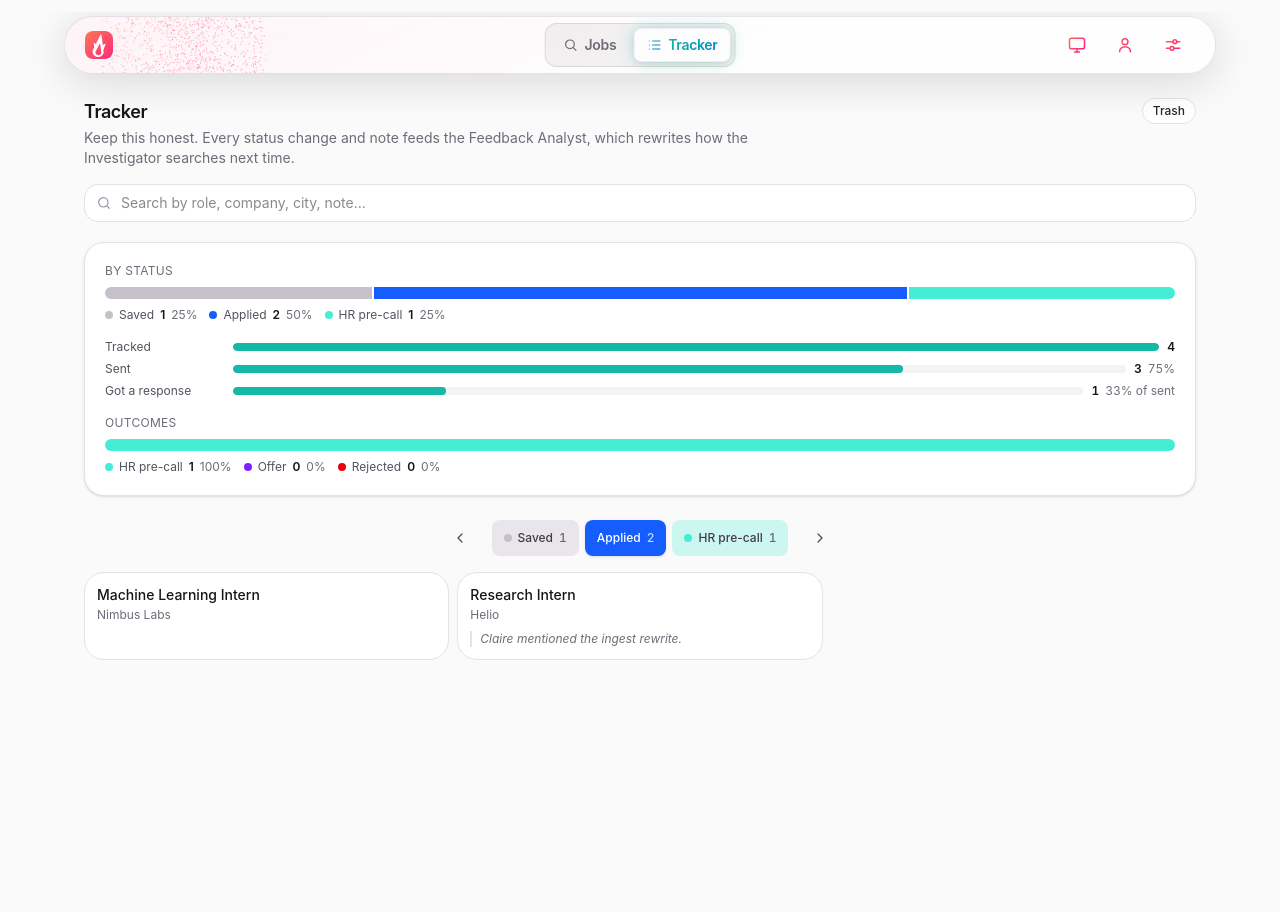
Scenario: the Tracker's search field › matches the city and the note, not only the title and the company
Expected: the text "Nimbus Labs" is shown, [97,607,171,622]
In the search field named "Search applications": (640, 203) [84,184,1196,222], type "paris"
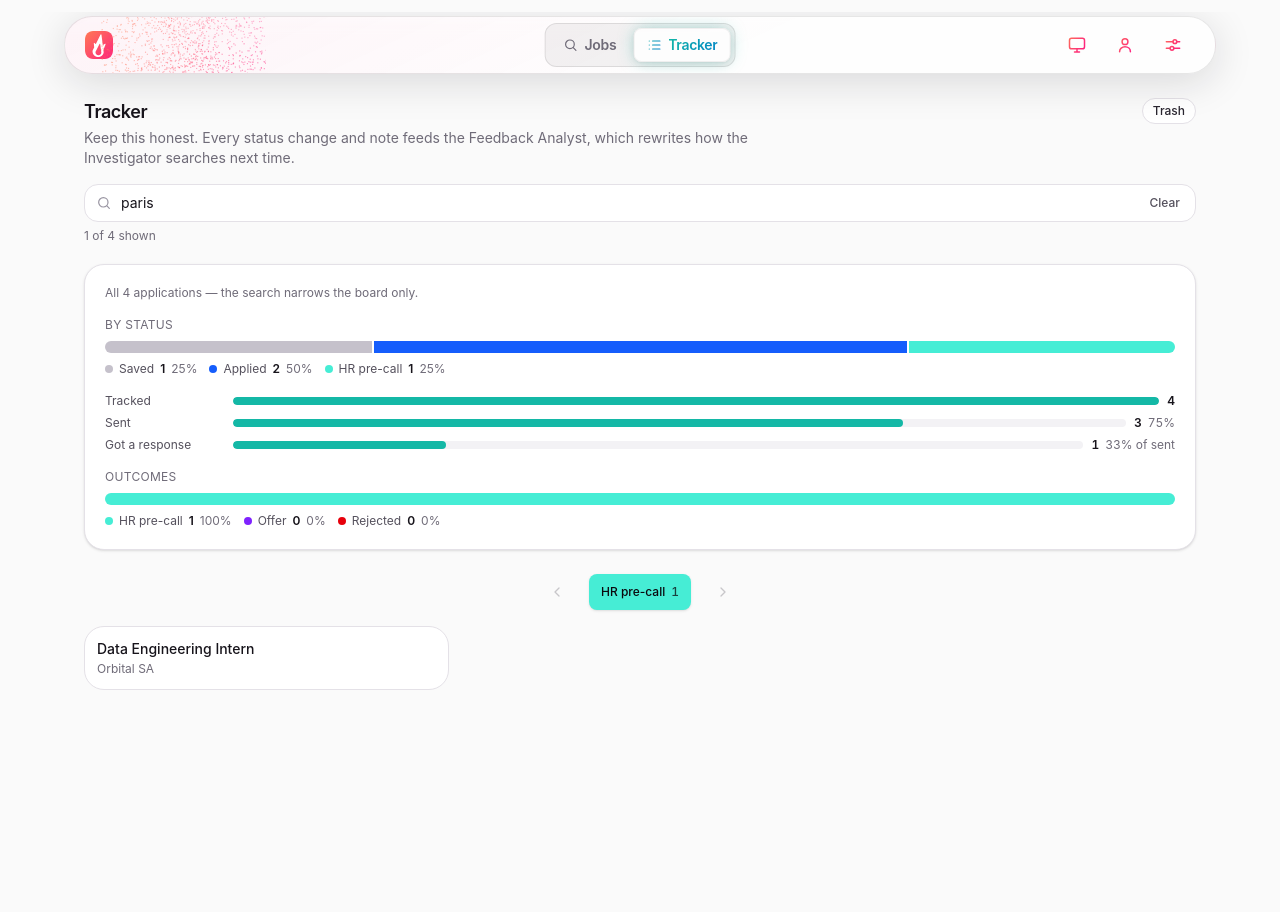
Expected: the link "Nimbus Labs" is gone
Expected: the text "Orbital SA" is shown, [97,661,154,676]
Replace the text in the search field named "Search applications" with "claire": (640, 203) [84,184,1196,222]
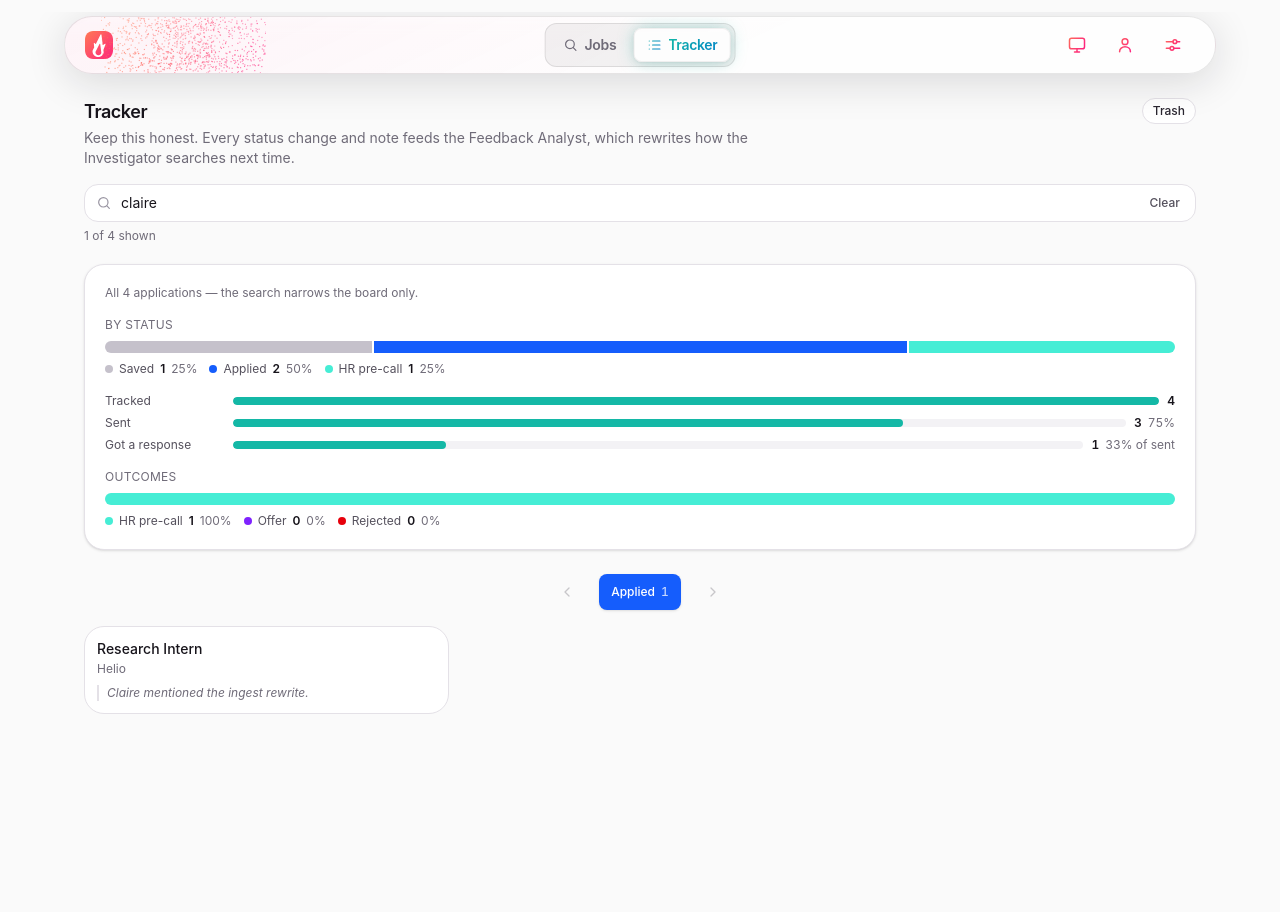
Expected: the link "Orbital SA" is gone
Expected: the text "Helio" is shown, [97,661,126,676]
